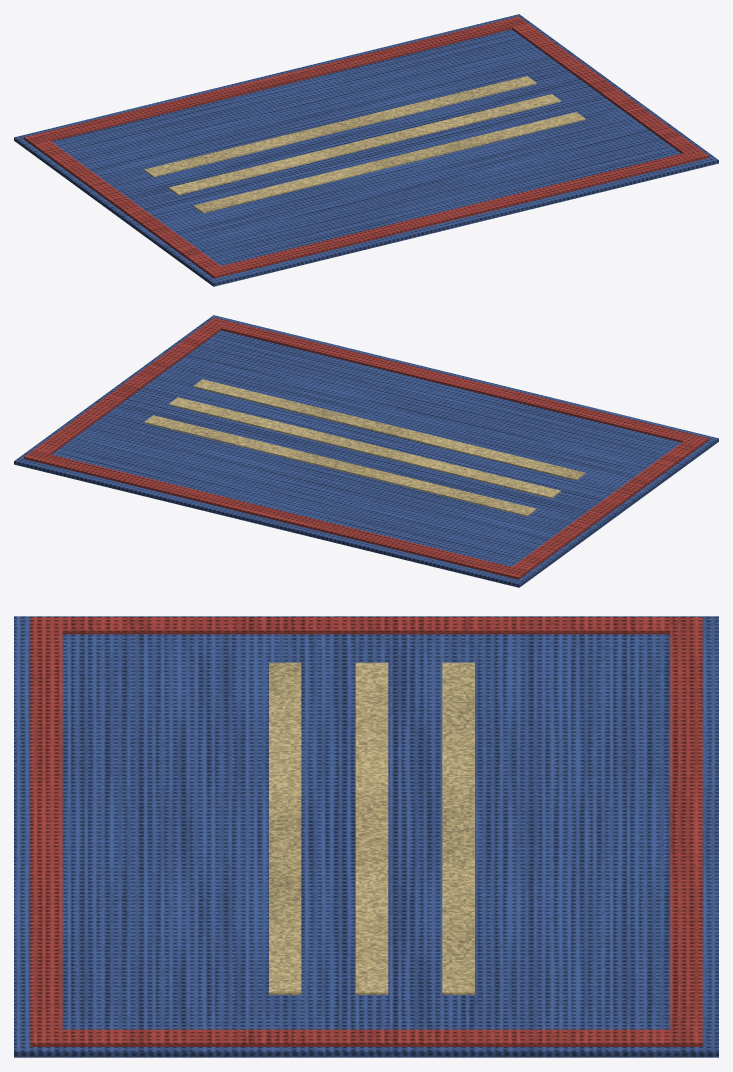
The model's file is exhibit_rug.fbx.
3 views of the same model, one above another, from view 1: azimuth 30°, elevation 25°; view 2: azimuth 150°, elevation 25°; view 3: azimuth 270°, elevation 25° (orthographic). The views are drawn at different scales.
Visible parts, largest first — view 1: exhibit_rug; view 2: exhibit_rug; view 3: exhibit_rug.
Boxes of the visible parts, box(x1,y1,x2,y2) form: exhibit_rug: box(14, 14, 718, 286); exhibit_rug: box(14, 315, 718, 587); exhibit_rug: box(14, 616, 718, 1057).
Bounding box in the file's own units: 190 × 2.5 × 130.
